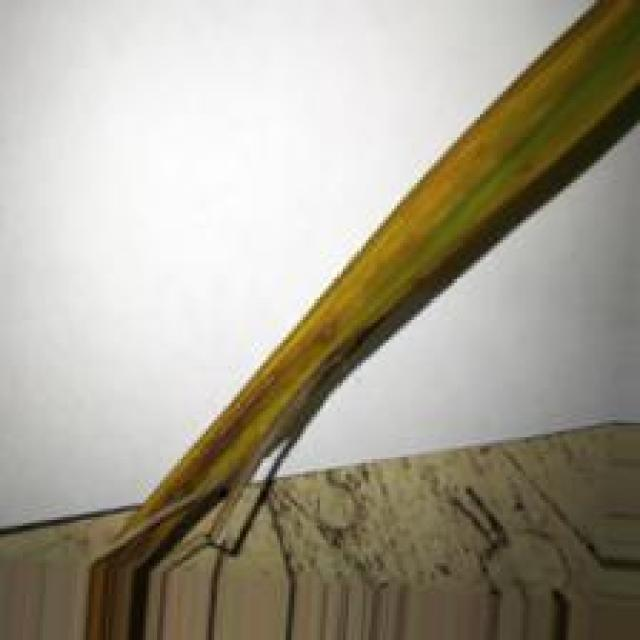Rice False Smut: (146, 310, 343, 521)
